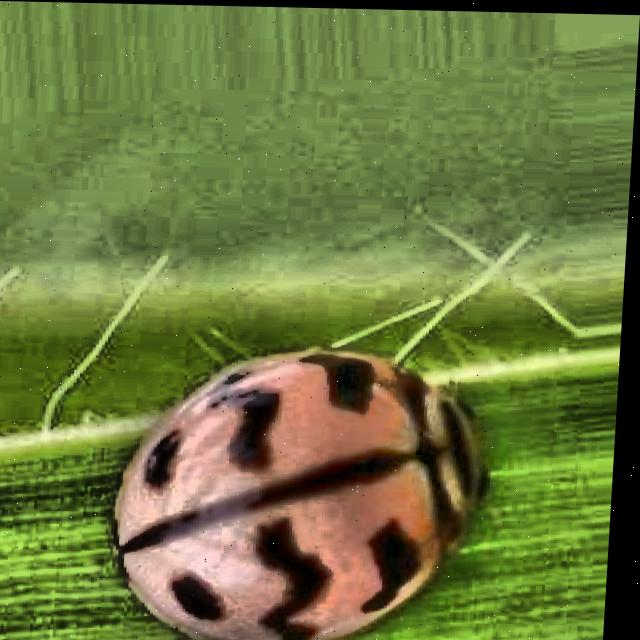Asian-Lady-beetle: (37, 316, 532, 640)
